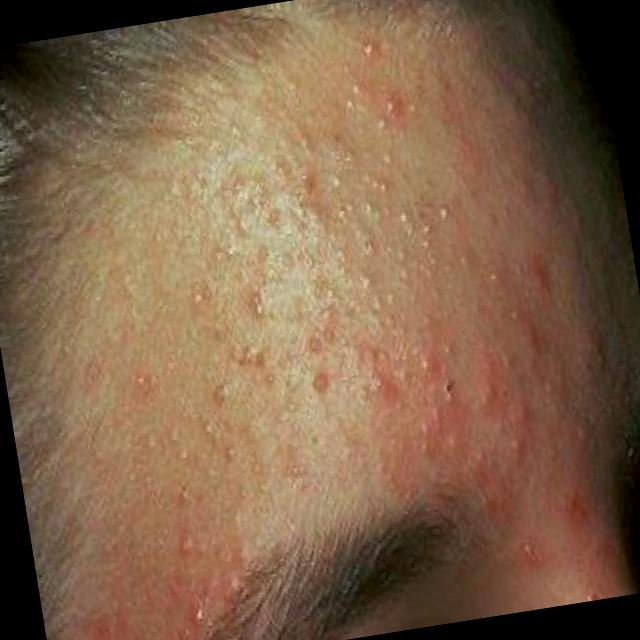fungal: (33, 16, 640, 640)
